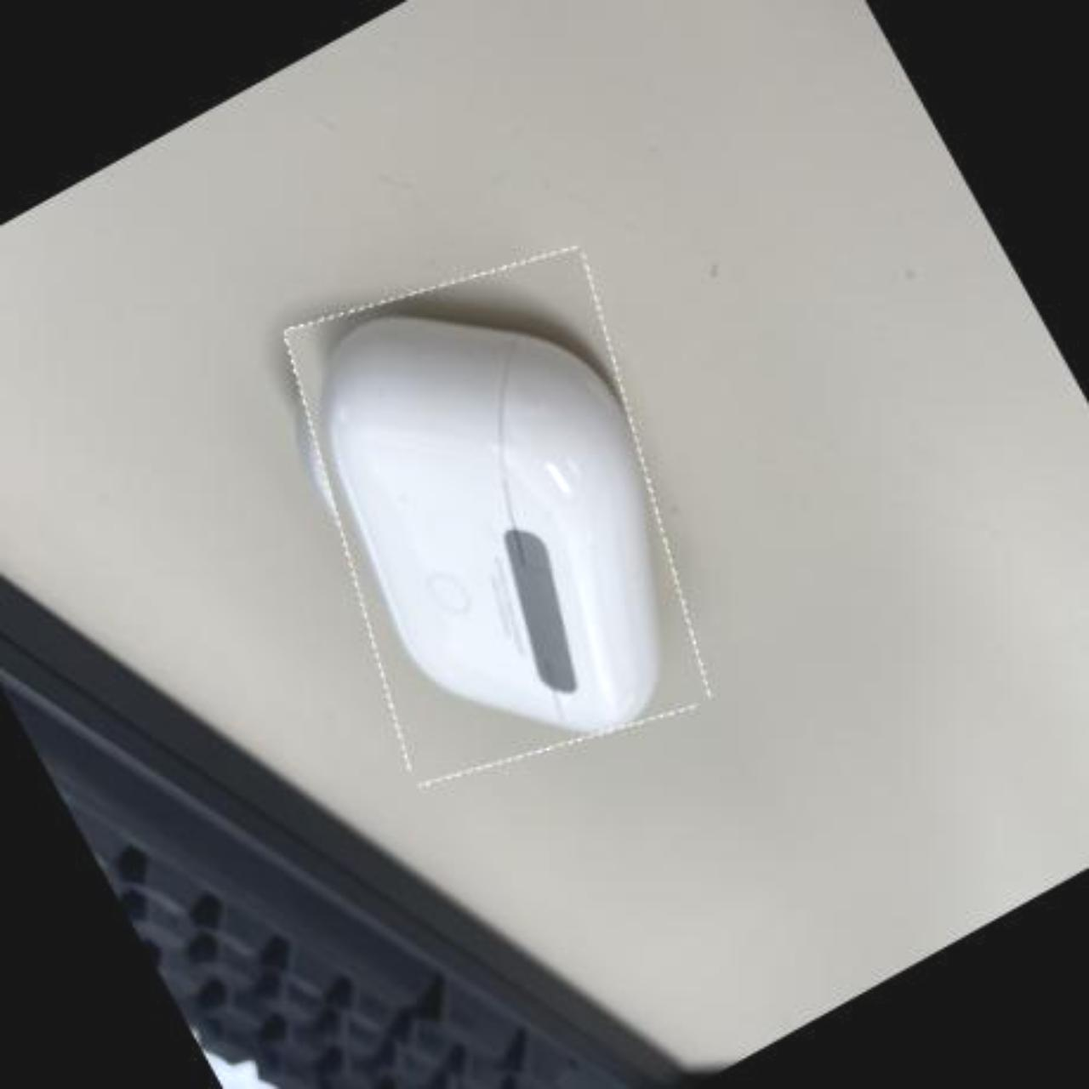AirPods: (219, 210, 773, 820)
